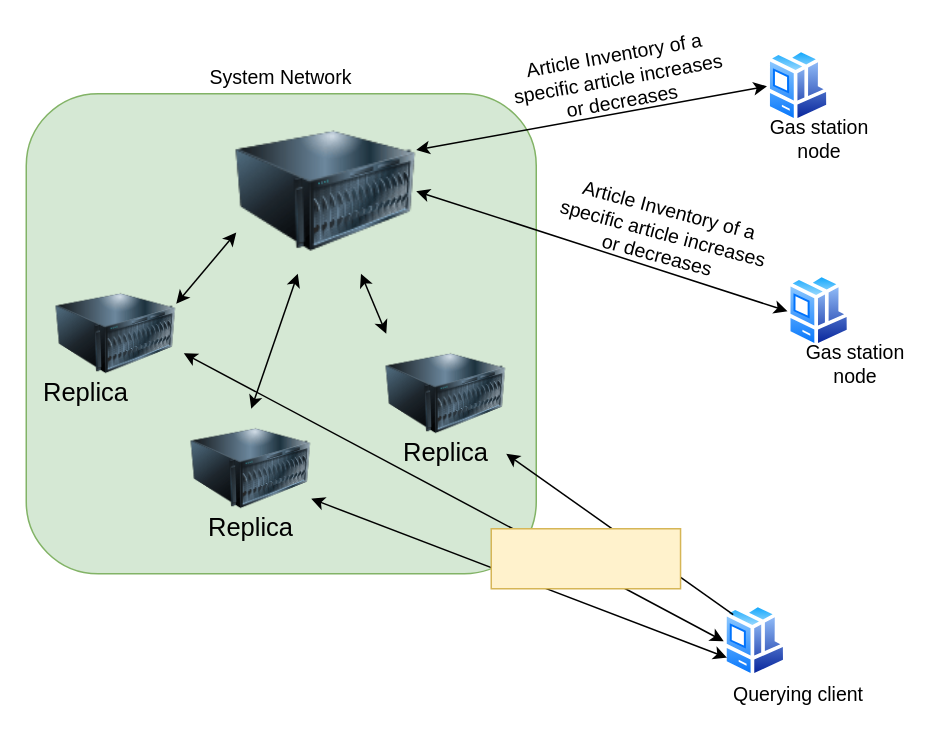
The diagram is 948 pixels wide and 735 high, and some of its shapes have lost their labels. The shapes that lost their labels are listed below. From the top down, each one's centre as x and y in pixels, then its label:
(x=326, y=190): Primary
(x=585, y=558): Querying stock moves
